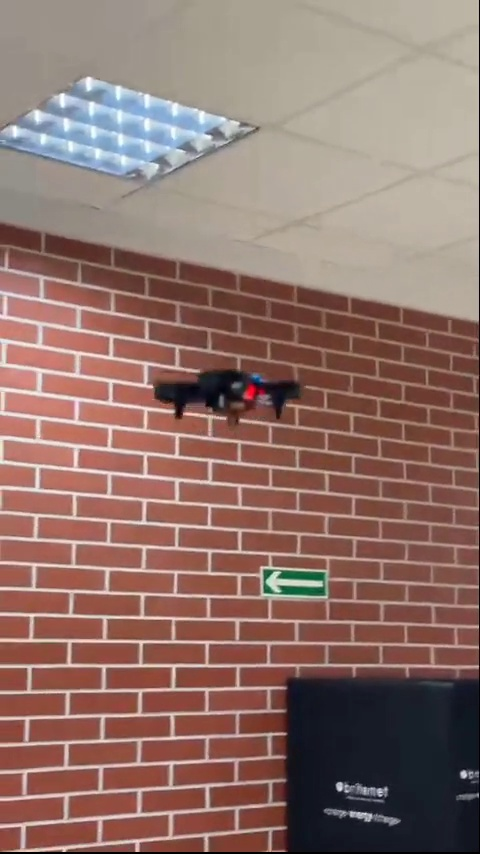drone: (154, 371, 299, 425)
